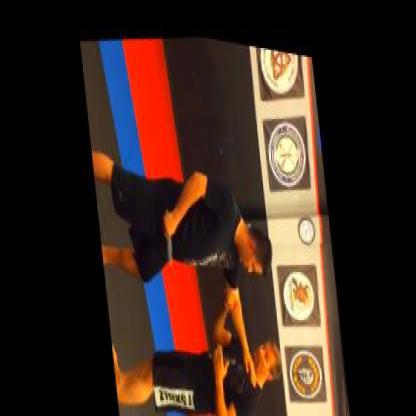knife: (158, 199, 176, 261)
